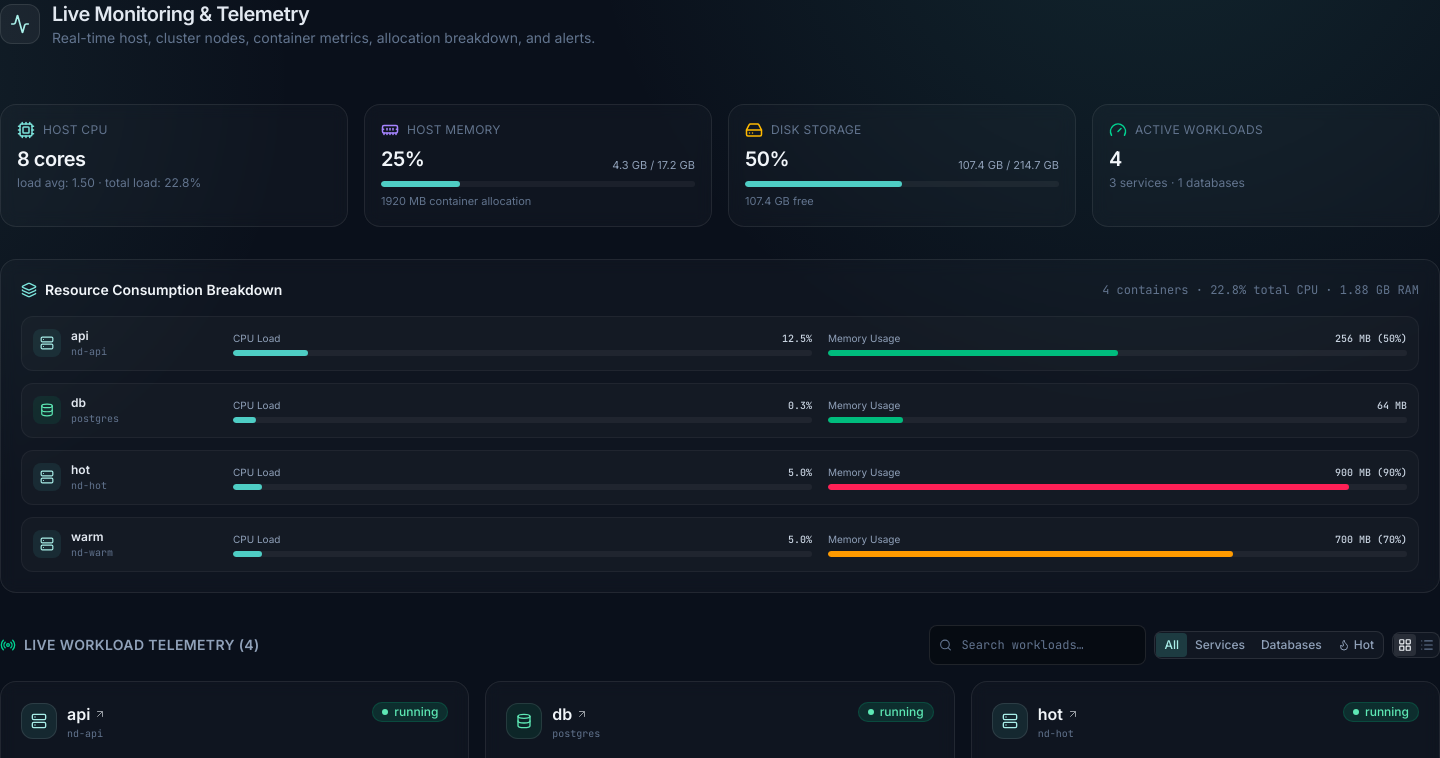
Test case: Monitoring › renders host overview with percentages
expect the text "8 cores" is shown: met, box [17,147,86,171]
expect the text "load avg: 1.50 · total load: 22.8%" is shown: met, box [17,175,201,190]
# The DevOps table view falls back to generic kinds for engine-less rows.
Click the button titled "DevOps Matrix Table View" at (1427, 644), box [1416,634,1438,656]
(page scrolled)
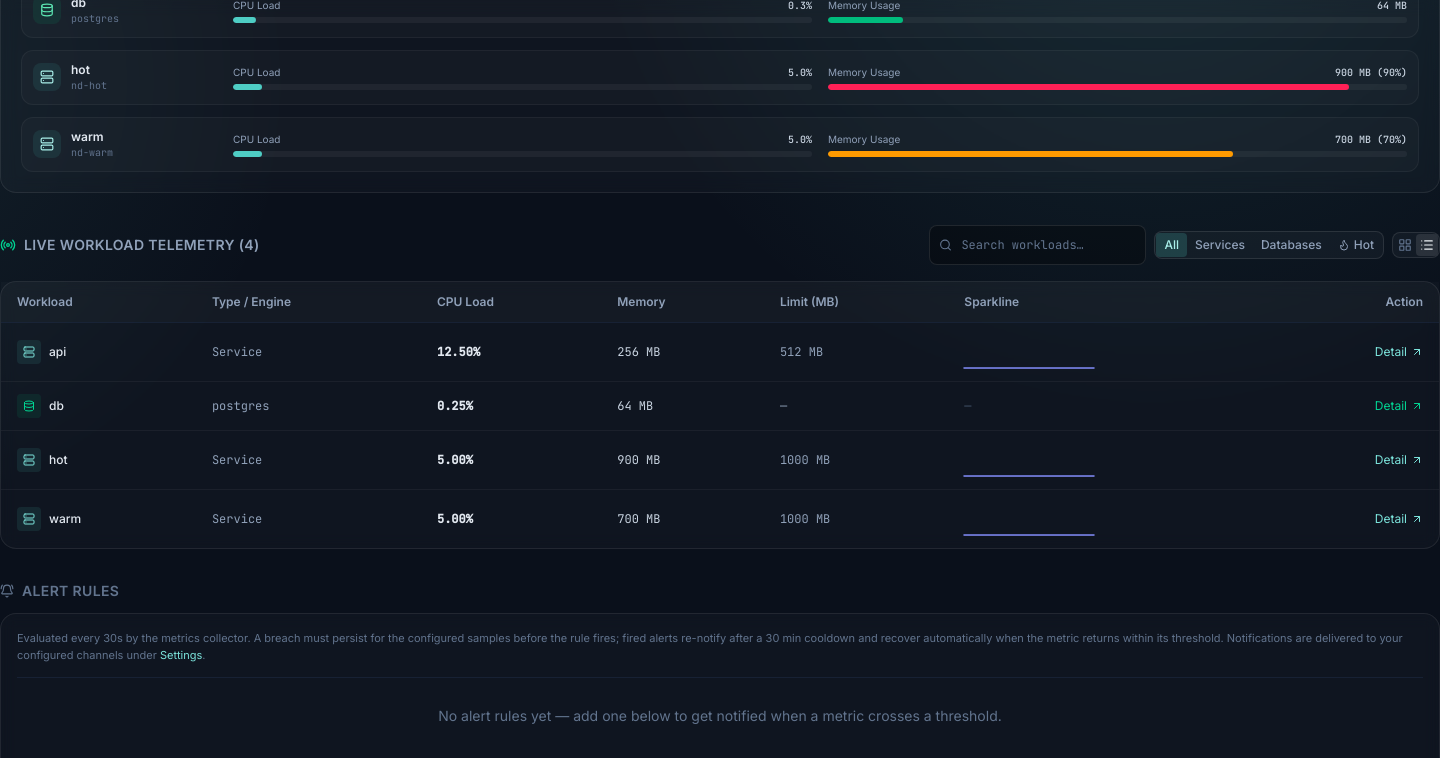
expect the text "Service" is shown 3 times: met, box [196,322,421,381]; [196,430,421,489]; [196,489,421,548]
expect the text "900 MB" is shown: met, box [601,430,764,489]
expect the 1st text "1000 MB" is shown: met, box [764,430,948,489]
